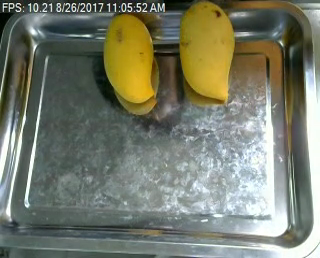Mango: (169, 2, 243, 106), (99, 9, 159, 109)
